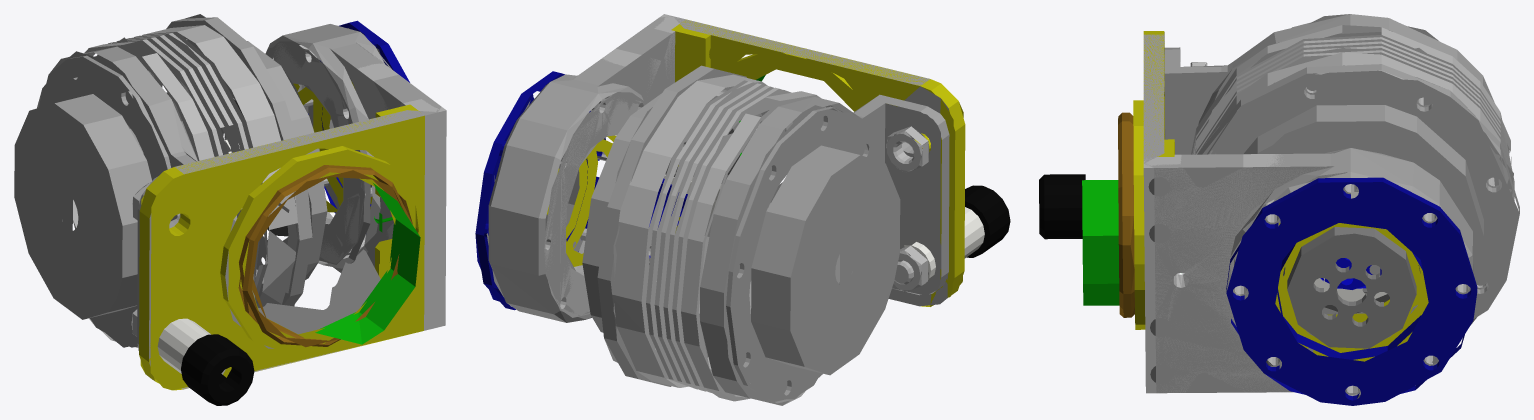
File: ArmL_Sho2_joint_visu.dae
The picture shows the model from 3 angles, left to right: view 1: azimuth 30°, elevation 25°; view 2: azimuth 150°, elevation 25°; view 3: azimuth 270°, elevation 25°; orthographic projection. The views are drawn at different scales.
Parts seen in each view (by area): view 1: Visualization_ALDof2; view 2: Visualization_ALDof2; view 3: Visualization_ALDof2.
Part boxes in pixels (box(x1,y1,x2,y2)): Visualization_ALDof2: box(14, 14, 446, 405); Visualization_ALDof2: box(475, 14, 1010, 405); Visualization_ALDof2: box(1039, 14, 1519, 405).
Size of the model in its own units: 0.075 by 0.0929 by 0.064.
